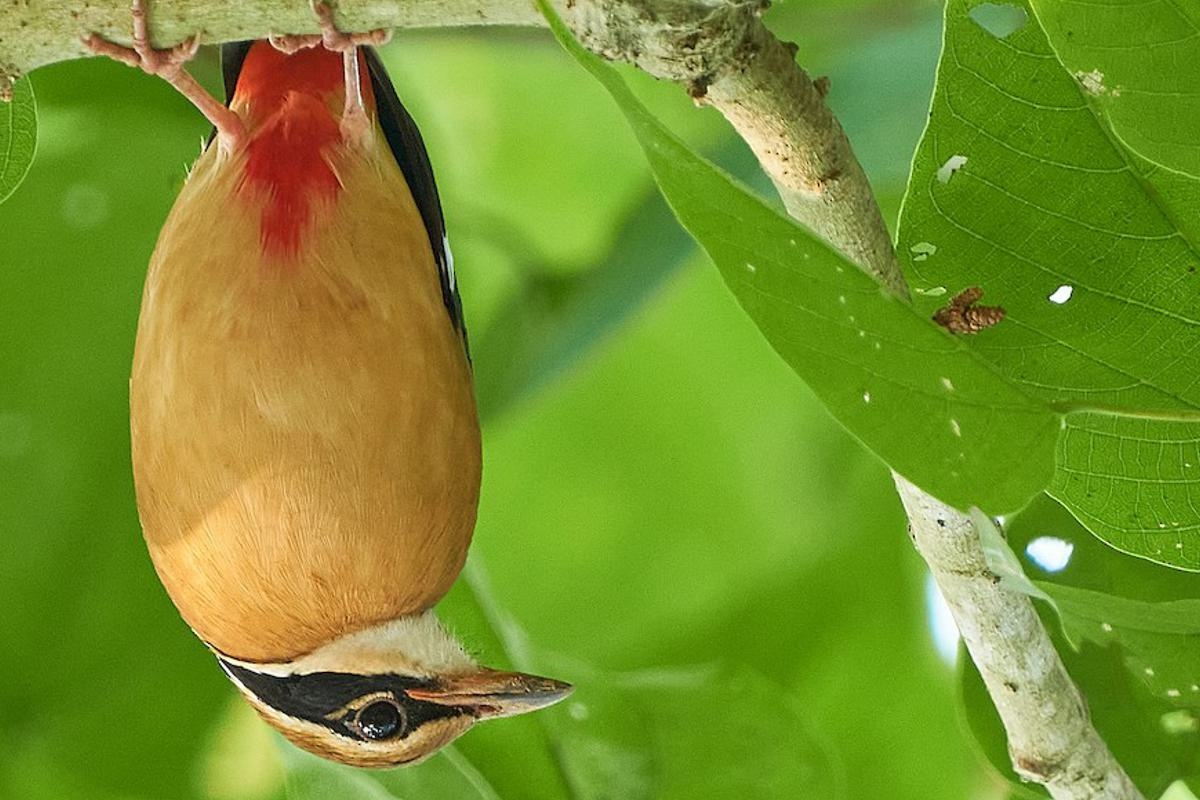pitta: (84, 1, 603, 776)
